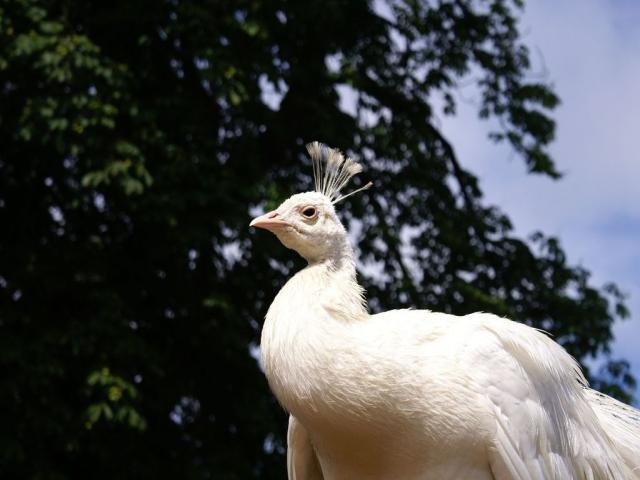Bird: (248, 140, 640, 480)
